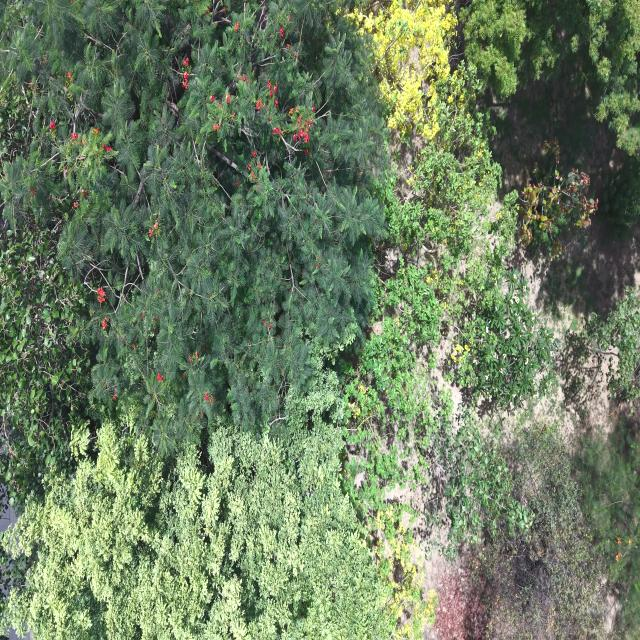DRY_AREA: (500, 211, 639, 451)
VEGETATION_TREE: (0, 0, 639, 639), (2, 2, 395, 636), (1, 1, 385, 450), (343, 55, 595, 553), (3, 373, 402, 639), (342, 63, 551, 554), (488, 285, 639, 636), (387, 64, 515, 294), (0, 188, 90, 504), (477, 425, 606, 639), (460, 0, 639, 153), (0, 220, 89, 504), (578, 287, 639, 639), (450, 273, 556, 414), (346, 0, 455, 137), (432, 411, 532, 557), (578, 416, 639, 639), (518, 140, 597, 258), (367, 506, 437, 639), (588, 0, 639, 152), (587, 287, 639, 414), (459, 0, 528, 95), (599, 157, 639, 241)
